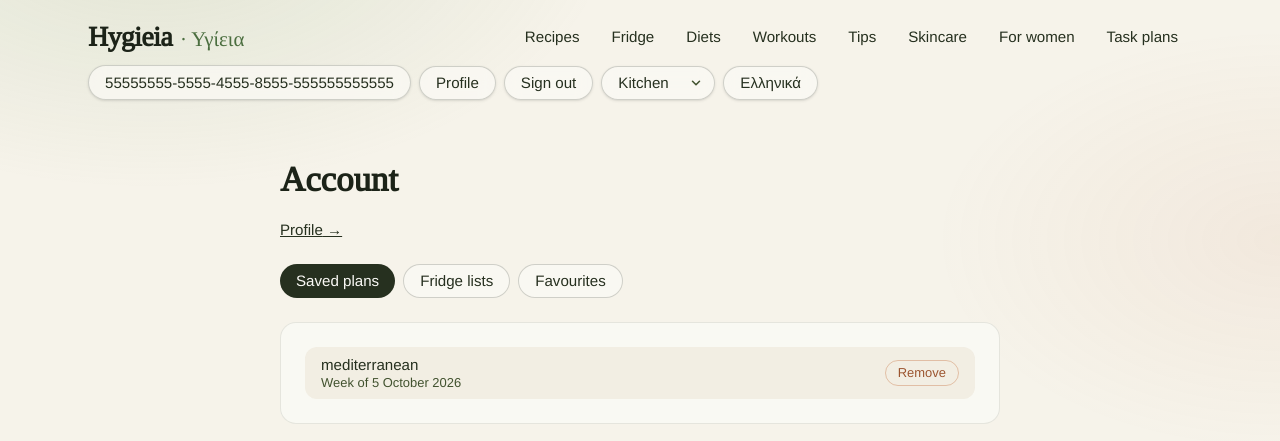
RequireAuth at /account › lists what the user has saved, per tab, from the user-data source
The image size is (1280, 441).
Expected: the text "mediterranean" is shown, [321, 356, 418, 373]
Click the tab "Fridge lists": [457, 281] box [403, 264, 510, 298]
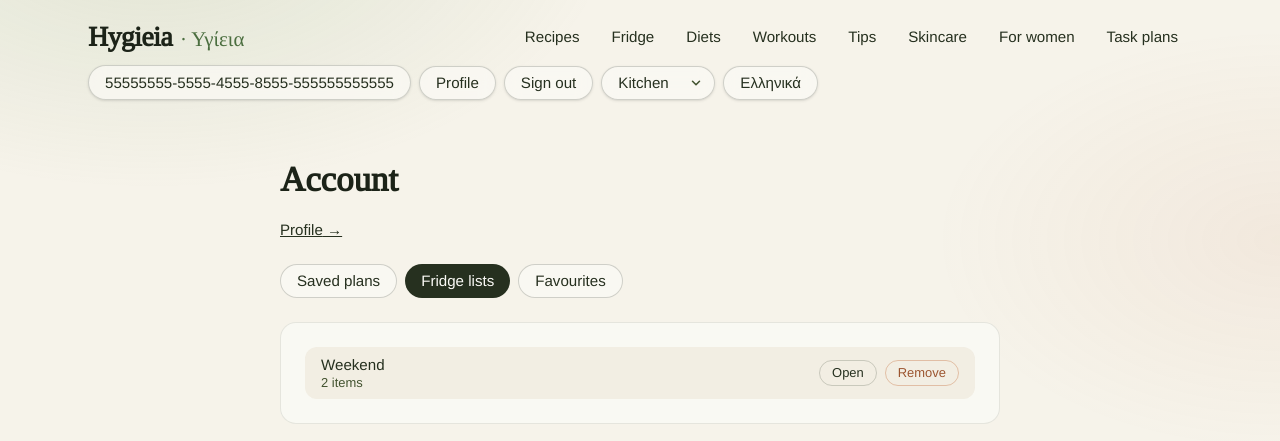
Expected: the text "Weekend" is shown, [321, 355, 385, 375]
Click the tab "Favourites": [570, 281] box [518, 264, 623, 298]
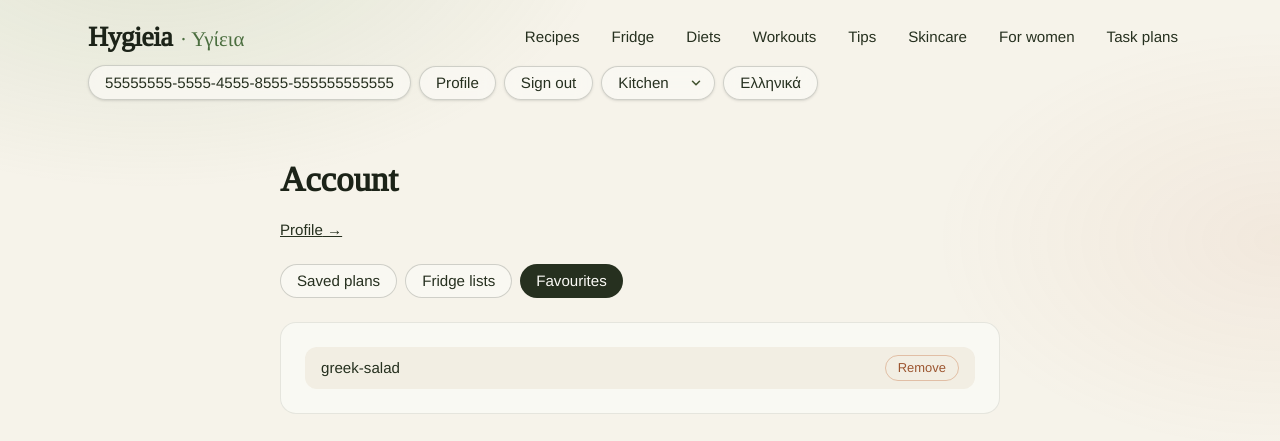
Expected: the text "greek-salad" is shown, [321, 358, 400, 378]
